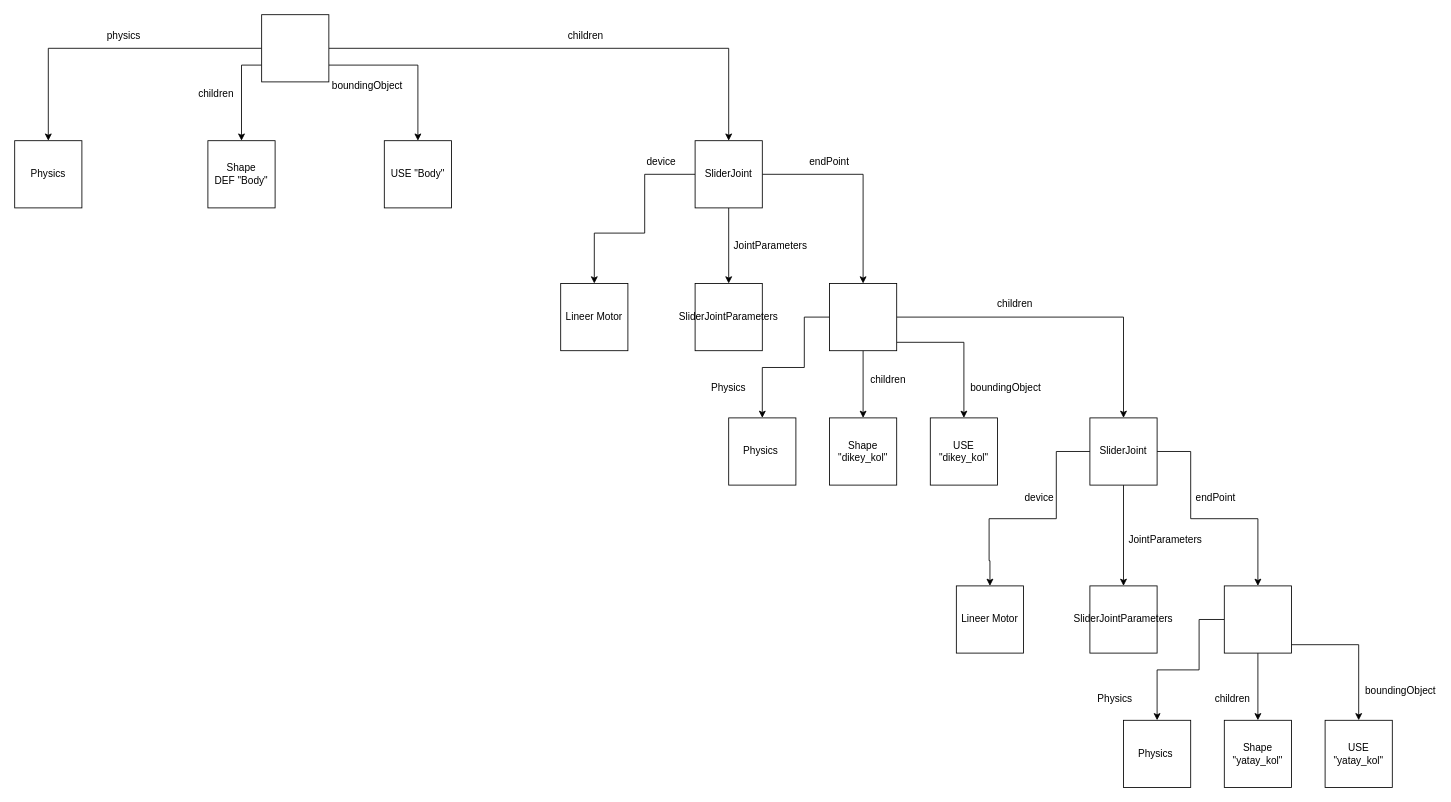
Some shapes in this 1451 by 802 pixel diagram are drawn without their labels. The centre of each missing label's shape, as x and y in pixels:
Robot: [295,48]
Solid DEF "dikey_kol": [863,317]
Solid DEF "yatay_kol": [1257,619]
